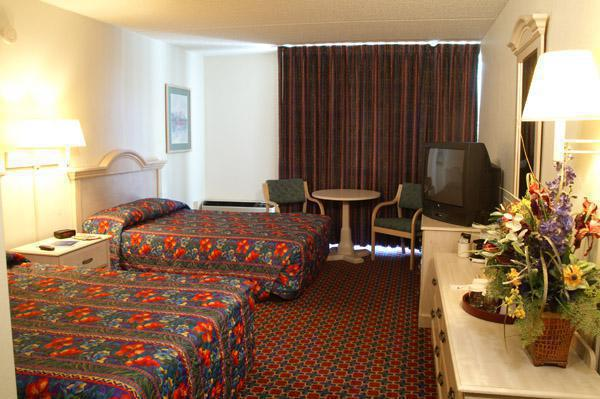Cama: (13, 261, 257, 393), (105, 201, 316, 289)
